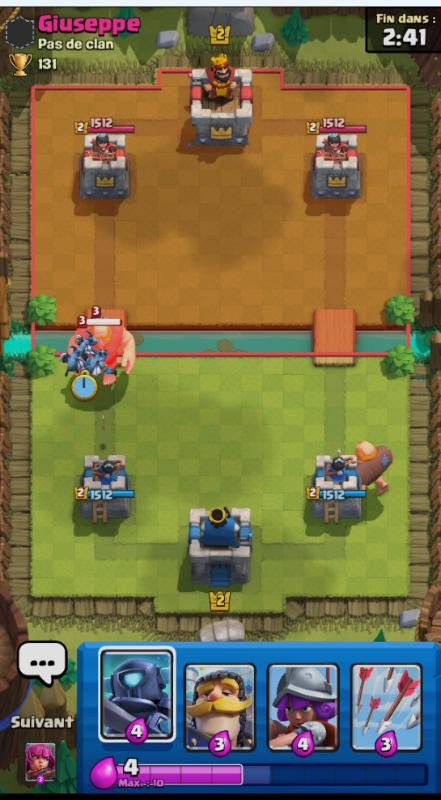gargouille: (82, 343, 114, 372), (62, 345, 86, 368), (75, 337, 99, 360)
geant: (71, 314, 138, 372), (345, 437, 396, 494)
